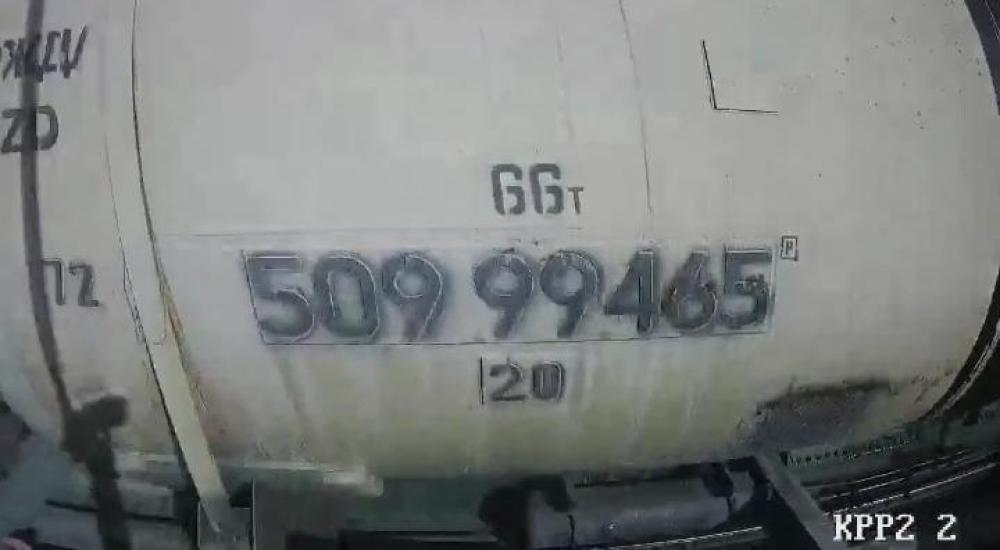Wagon-number: (242, 243, 772, 350)
